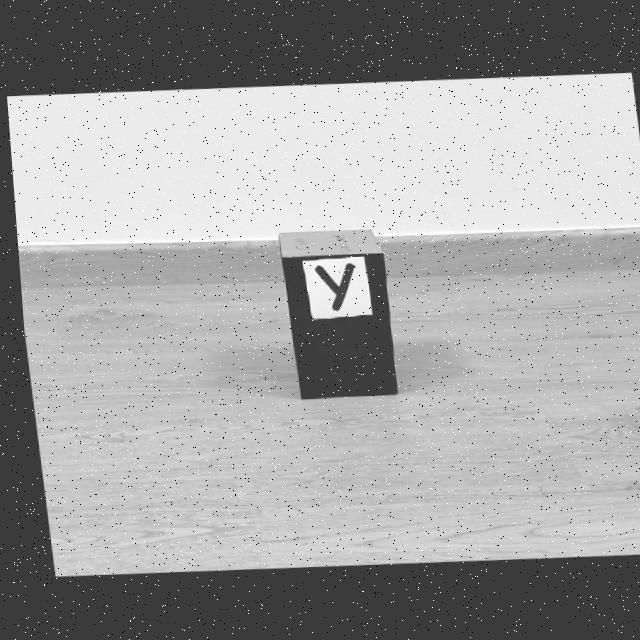Y: (311, 262, 351, 310)
